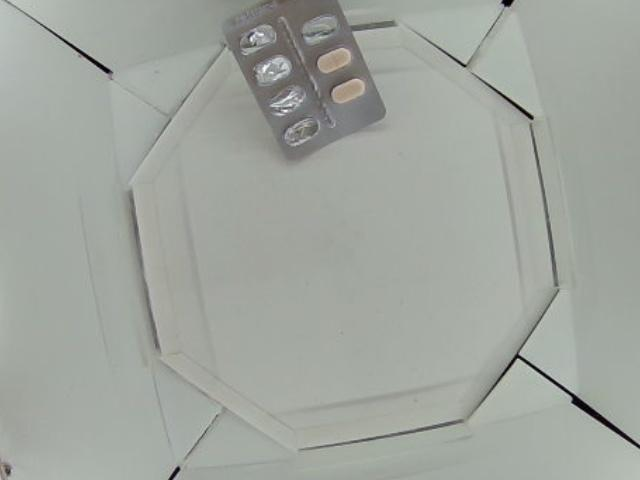Medicine: (213, 1, 389, 164)
